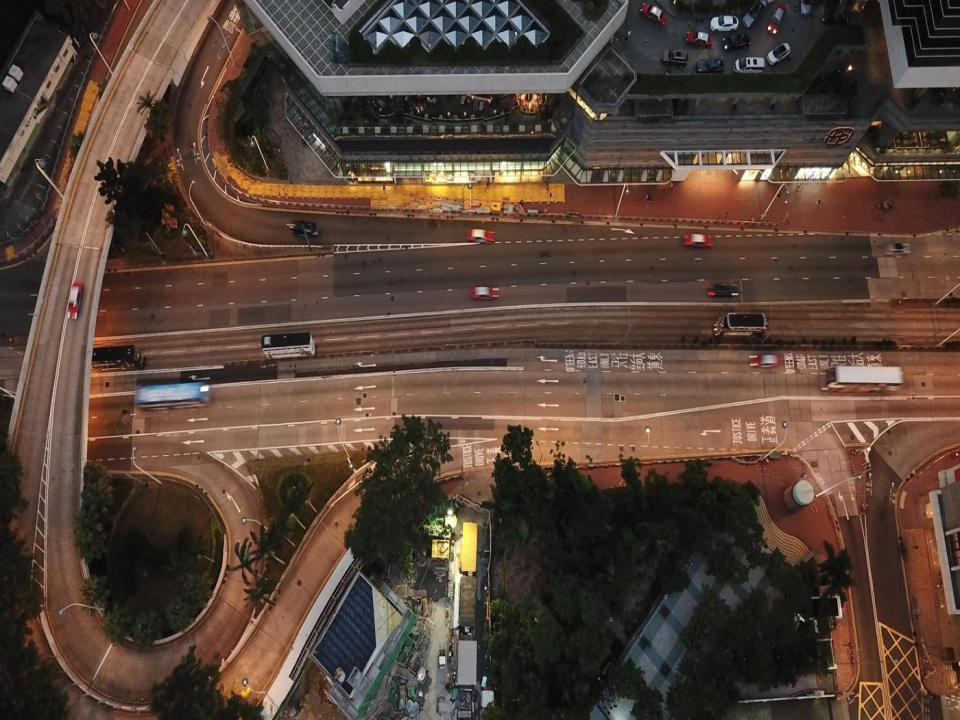bus: (825, 364, 903, 393), (133, 382, 211, 407), (88, 345, 145, 371), (261, 332, 315, 357), (713, 312, 767, 334)
car: (67, 280, 83, 320), (640, 2, 667, 24), (767, 3, 786, 34), (289, 219, 319, 236), (661, 49, 688, 67), (748, 354, 782, 368), (687, 30, 713, 48), (684, 233, 713, 248), (722, 34, 751, 49), (707, 283, 739, 296), (465, 228, 494, 242), (710, 16, 738, 30), (469, 286, 499, 299), (695, 59, 723, 72), (800, 0, 811, 15)
van: (742, 1, 767, 28), (766, 42, 791, 65), (733, 57, 764, 73), (883, 243, 911, 255)
